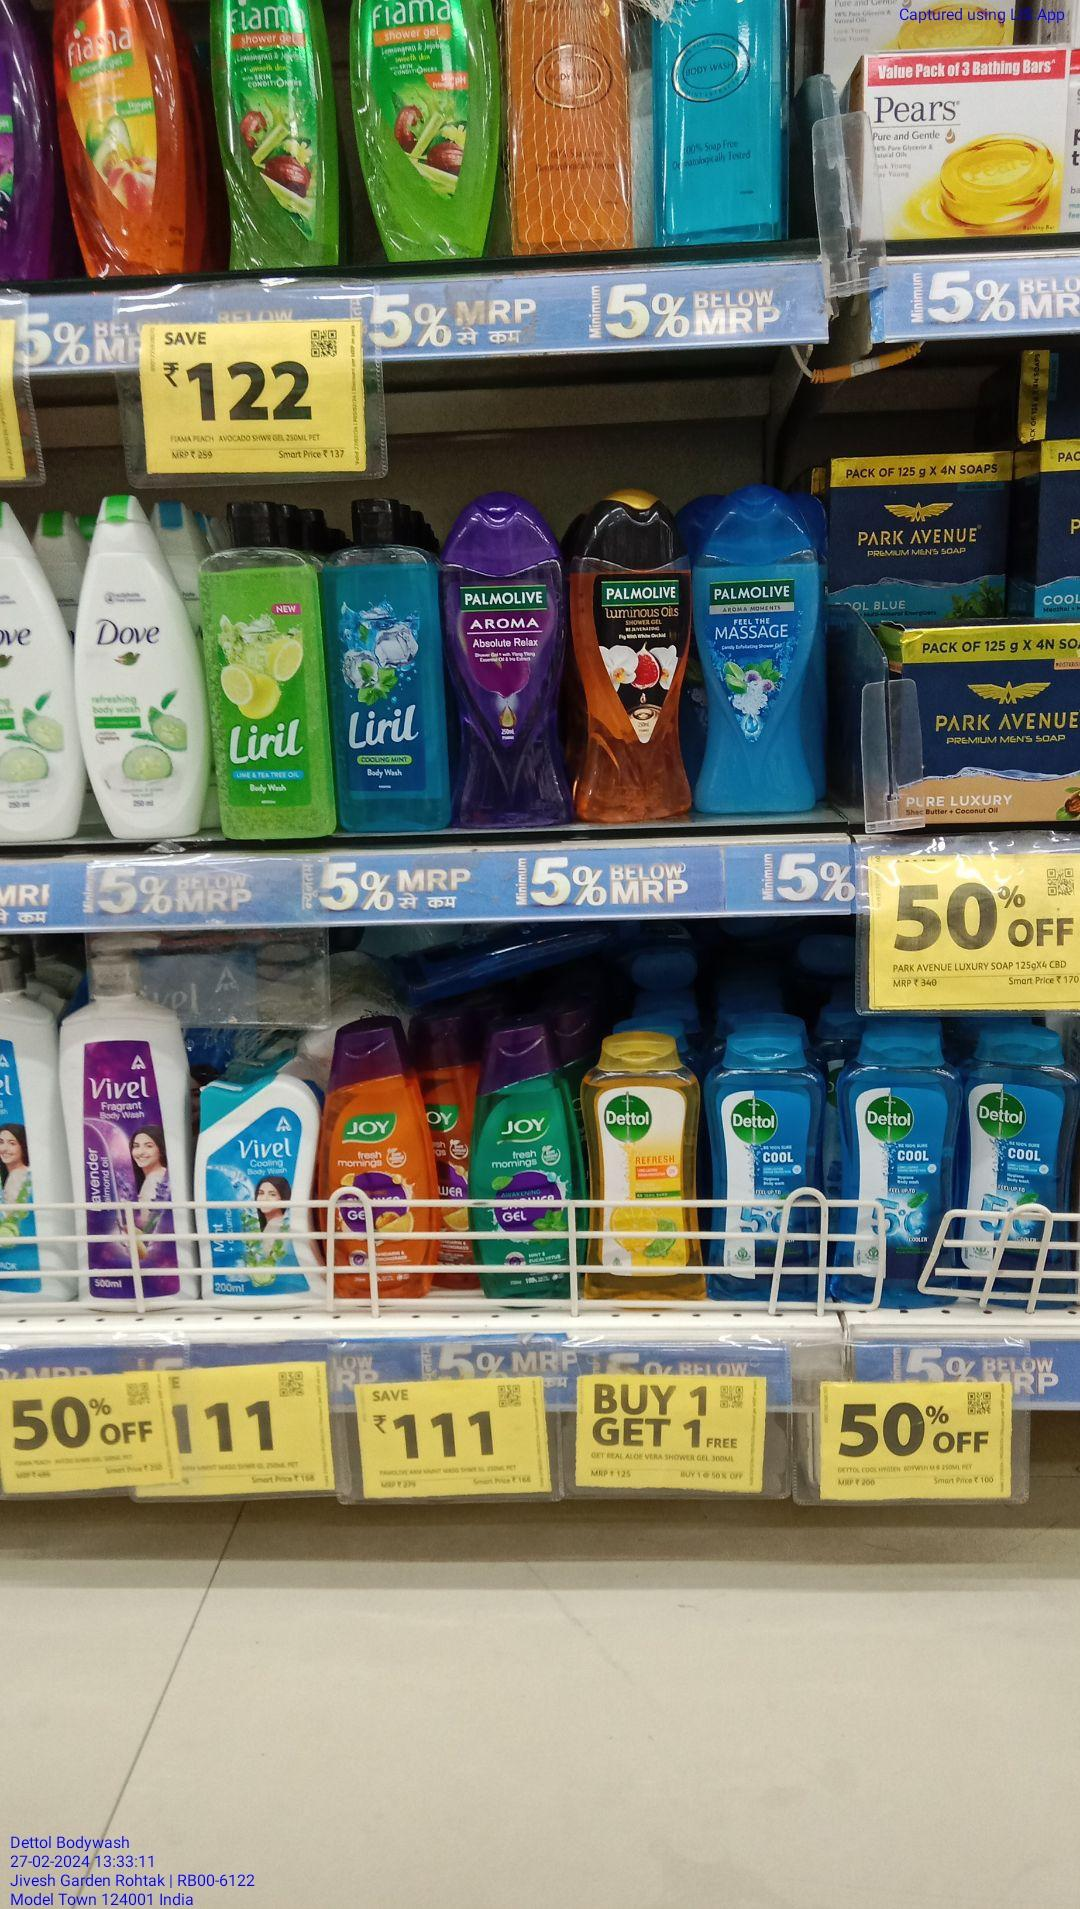Dettol_Bodywash_Cool: (836, 1024, 953, 1312), (706, 1025, 822, 1314), (965, 1023, 1080, 1302)
Dettol_Bodywash_Refresh: (592, 1037, 704, 1318)
Dove_Refreshing_Body_Wash_250ML: (77, 494, 199, 840), (0, 498, 69, 850)
Joy_Shower_Gel_Mandarin_and_Lemongrass_250ML: (321, 1017, 429, 1301)
Joy_Shower_Gel_Mint_and_Eucalyptus_250ML: (469, 1017, 590, 1312)
Liril_Cooling_Mint_Body_Wash_250ML: (330, 497, 444, 840)
Liril_Lime_and_Tea_Tree_Oil_Body_Wash_250ML: (207, 502, 321, 850)
Palmolive_Aroma_Moments_Feel_The_Massage_Shower_Gel_250ML: (700, 484, 819, 826)
Palmolive_Aroma_Relax_250ML: (450, 492, 564, 833)
Palmolive_Luminous_Oils_With_White_Orchid_Shower_Gel_250ML: (574, 482, 695, 829)
